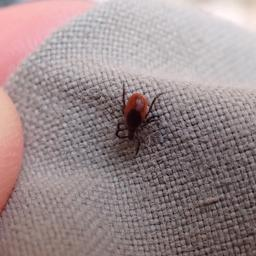Ixodes scapularis: (114, 81, 166, 157)
